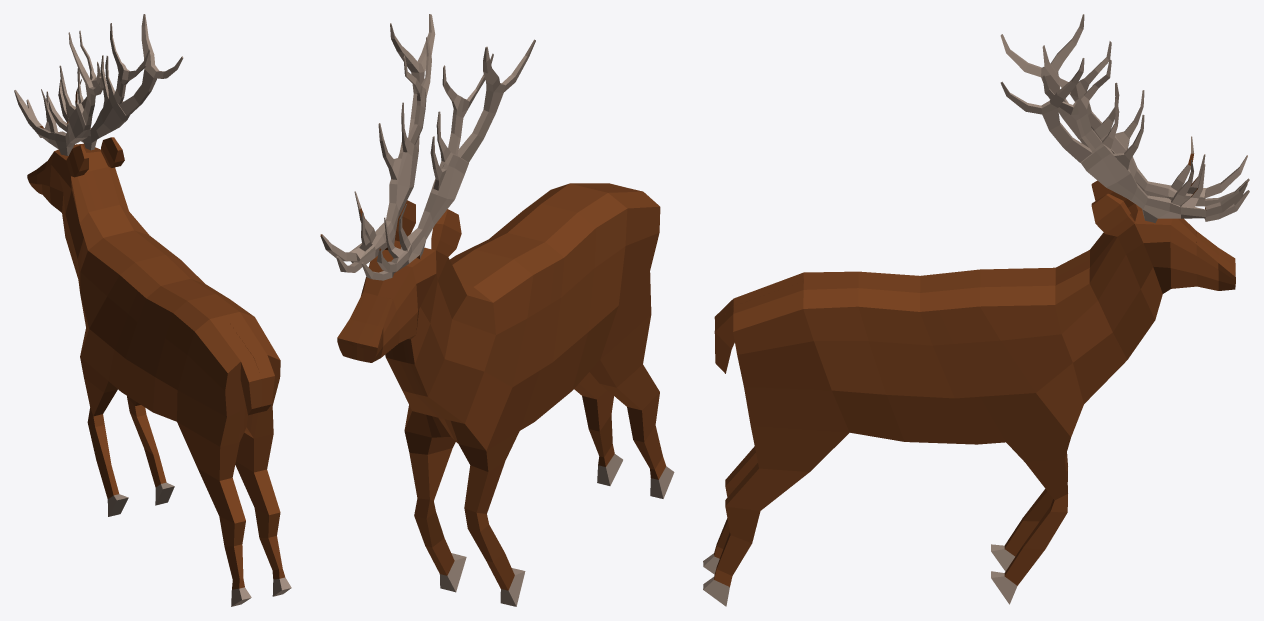
The model's file is reindeer.glb.
3 views of the same model, side by side, from view 1: azimuth 30°, elevation 25°; view 2: azimuth 150°, elevation 25°; view 3: azimuth 270°, elevation 25° (orthographic). The views are drawn at different scales.
Parts seen in each view (by area): view 1: deer.002_Material.091_0, deer.002_Material.090_0; view 2: deer.002_Material.091_0, deer.002_Material.090_0; view 3: deer.002_Material.091_0, deer.002_Material.090_0.
Part boxes in pixels (x1,y1,x2,y2): deer.002_Material.091_0: [27, 91, 284, 589]; deer.002_Material.090_0: [14, 14, 291, 606]; deer.002_Material.091_0: [320, 183, 666, 590]; deer.002_Material.090_0: [320, 14, 674, 606]; deer.002_Material.091_0: [714, 153, 1247, 586]; deer.002_Material.090_0: [703, 14, 1249, 606].
Bounding box in the file's own units: 2.21 × 11.79 × 10.51.
